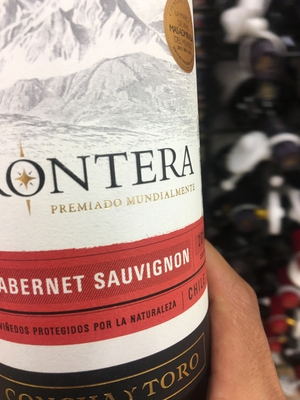frontera cabernet sauvignon: (1, 1, 200, 400)
